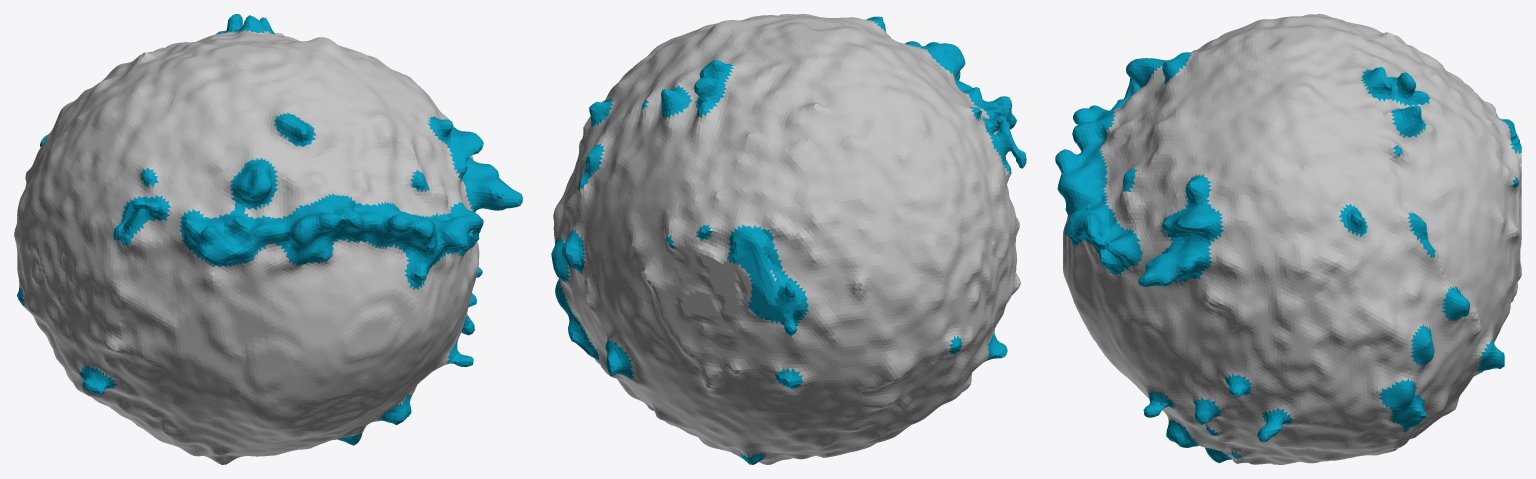
The picture shows the model from 3 angles, left to right: view 1: azimuth 30°, elevation 25°; view 2: azimuth 150°, elevation 25°; view 3: azimuth 270°, elevation 25°; orthographic projection. The views are drawn at different scales.
Bounding box in the file's own units: 93.45 × 87.1 × 91.62.
